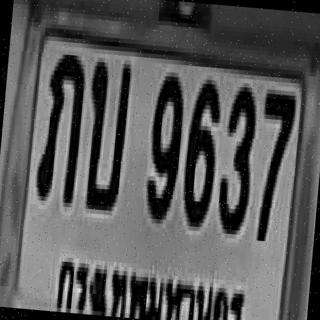A26: (80, 59, 132, 209)
A32: (34, 52, 86, 206)
N03: (215, 81, 257, 231)
N06: (180, 74, 222, 224)
N07: (252, 89, 295, 238)
N09: (142, 67, 185, 220)
